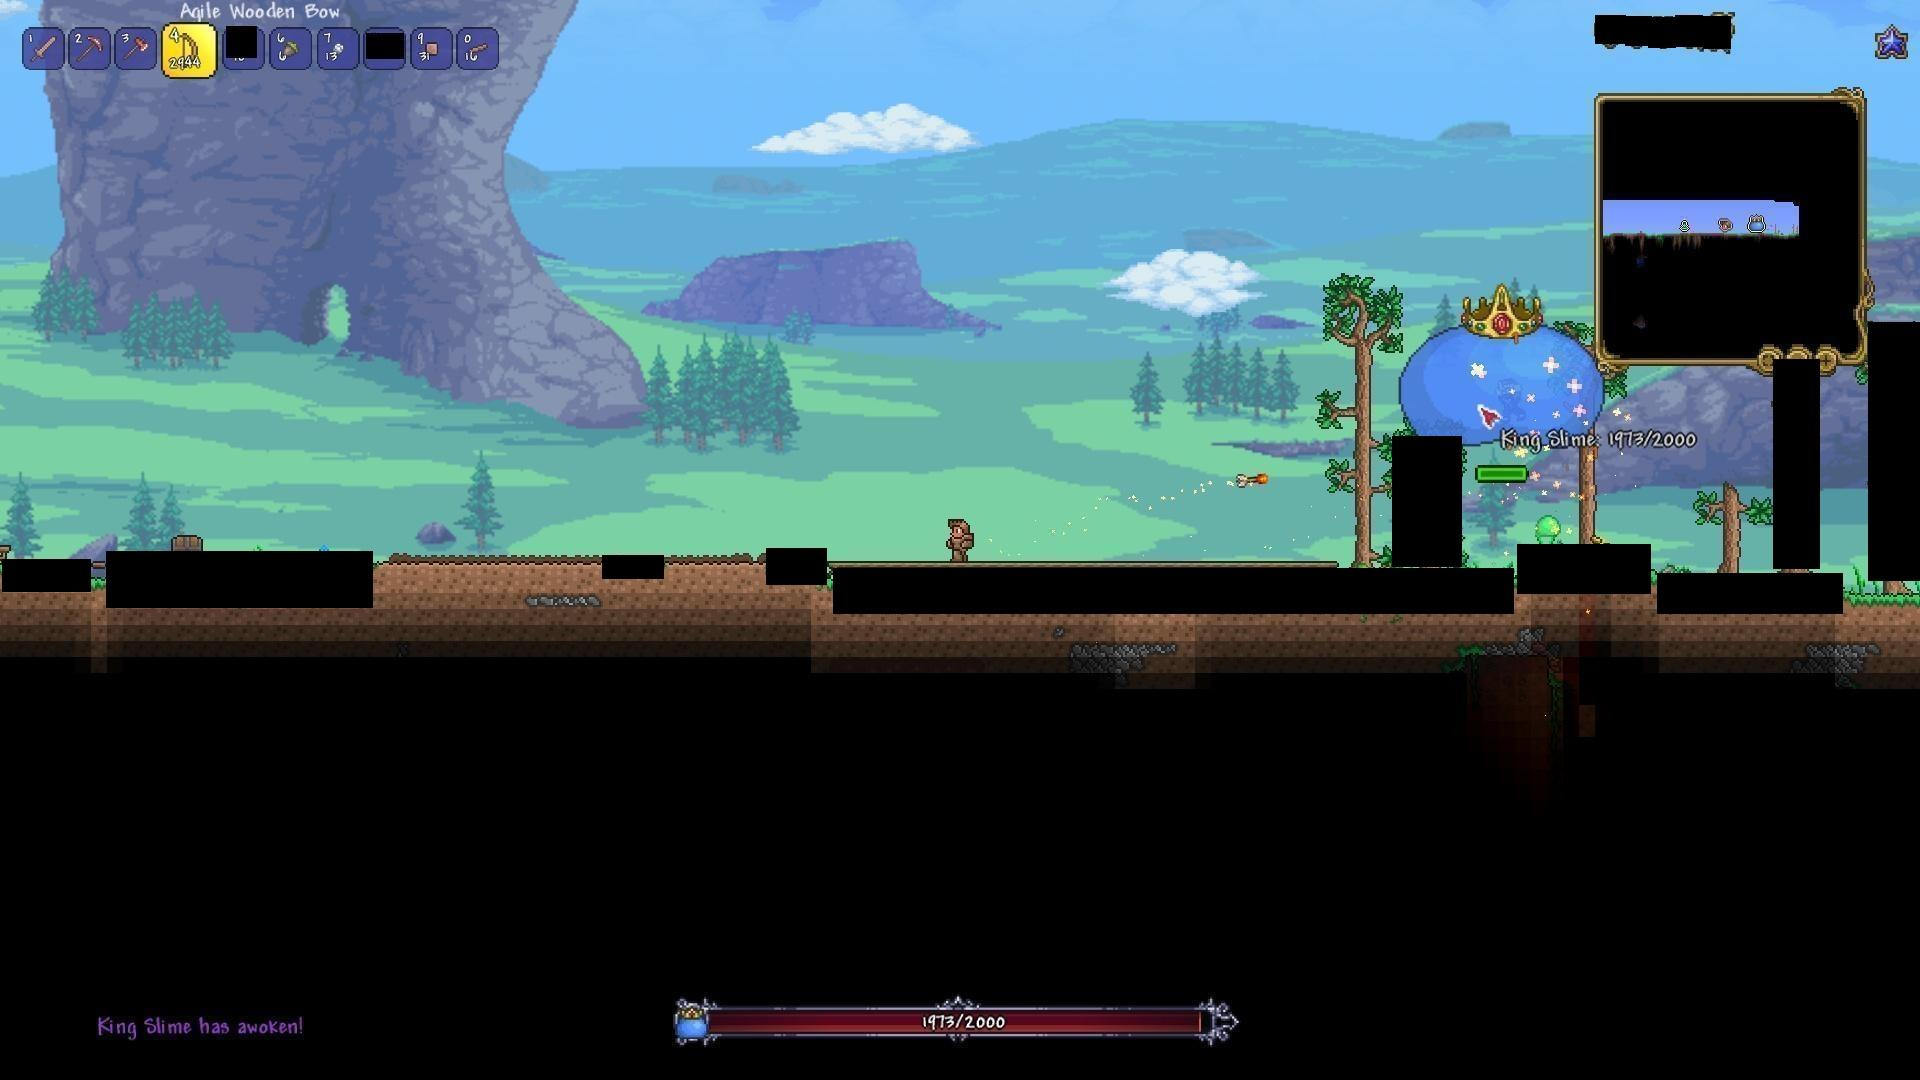dirt: (1846, 582, 1917, 618)
slime: (1538, 514, 1563, 542)
tree: (1323, 258, 1393, 567), (1695, 477, 1750, 571)
